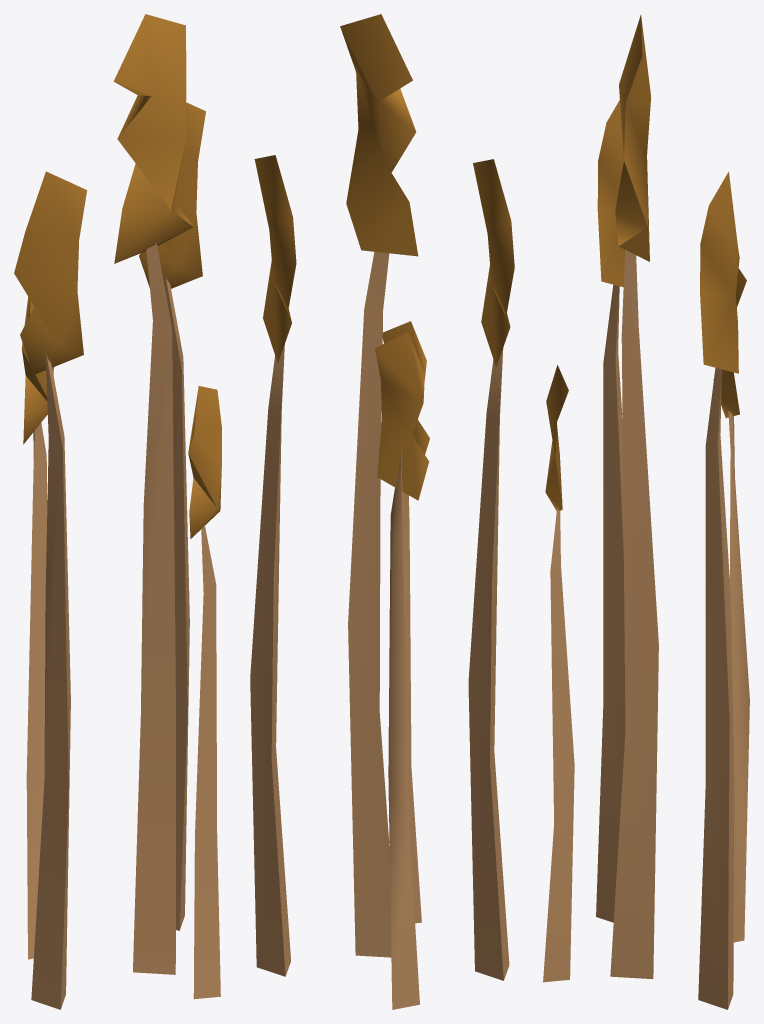
The model's file is SM_Plants_Millet_01.obj.
The picture shows the model from 3 angles, left to right: view 1: azimuth 30°, elevation 25°; view 2: azimuth 150°, elevation 25°; view 3: azimuth 270°, elevation 25°; orthographic projection.
Visible parts, largest first — view 1: SM_Plants_Millet_01_Mat_SwatchOverlay_Farm_01_Inst; view 2: SM_Plants_Millet_01_Mat_SwatchOverlay_Farm_01_Inst; view 3: SM_Plants_Millet_01_Mat_SwatchOverlay_Farm_01_Inst.
Boxes of the visible parts, bbox=[...] form: SM_Plants_Millet_01_Mat_SwatchOverlay_Farm_01_Inst: bbox=[14, 14, 221, 1009]; SM_Plants_Millet_01_Mat_SwatchOverlay_Farm_01_Inst: bbox=[250, 14, 514, 1009]; SM_Plants_Millet_01_Mat_SwatchOverlay_Farm_01_Inst: bbox=[543, 15, 749, 1009].
Bounding box in the file's own units: 0.1451 × 0.5816 × 0.1139.
Materials: 1 (1 with a texture image).
